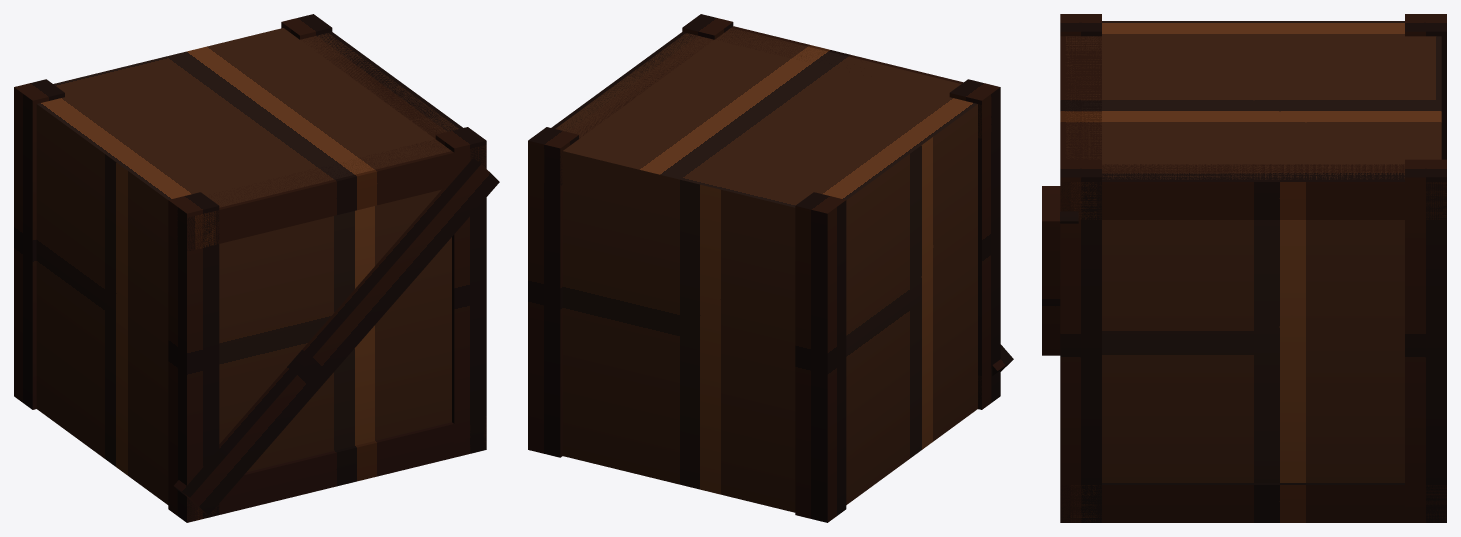
File: crate.glb
3 renders of one model, left to right at view 1: azimuth 30°, elevation 25°; view 2: azimuth 150°, elevation 25°; view 3: azimuth 270°, elevation 25°, orthographic. The views are drawn at different scales.
Parts seen in each view (by area): view 1: crate; view 2: crate; view 3: crate.
Boxes of the visible parts, box(x1,y1,x2,y2) form: crate: box(14, 14, 499, 522); crate: box(528, 14, 1013, 522); crate: box(1042, 14, 1446, 522).
Size of the model in its own units: 0.7657 by 0.73 by 0.775.
Materials: 1 (1 with a texture image).
